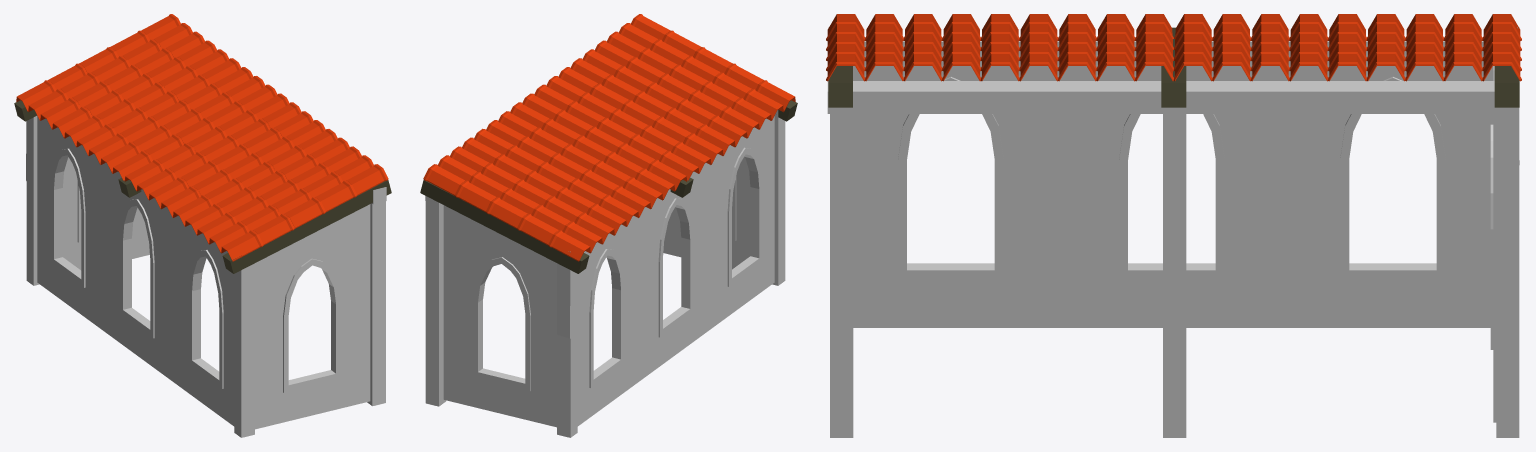
The model's file is Fancy Sidewall destruction.fbx.
The picture shows the model from 3 angles, left to right: view 1: azimuth 30°, elevation 25°; view 2: azimuth 150°, elevation 25°; view 3: azimuth 270°, elevation 25°; orthographic projection. The views are drawn at different scales.
Parts seen in each view (by area): view 1: Cube.1156, Cube.1159, Cube.1759, Cube.1164, Cube.1766, Cube.1764, Cube.1760, Cube.1157, Cube.1165, Cube.1158, Cube.1161, Cube.1163 (+134 smaller); view 2: Cube.1155, Cube.1133, Cube.990, Cube.1147, Cube.1763, Cube.1152, Cube.1154, Cube.1146, Cube.1134, Cube.1153, Cube.1145, Cube.988 (+134 smaller); view 3: Cube.989, Cube.1762, Cube.1761, Cube.1118, Cube.1142, Cube.1141, Cube.1124, Cube.1112, Cube.1129, Cube.1123, Cube.1139, Cube.1111 (+33 smaller).
Boxes of the visible parts, box(x1,y1,x2,y2) form: Cube.1156: box(312, 204, 370, 272); Cube.1159: box(255, 226, 327, 293); Cube.1759: box(234, 333, 254, 437); Cube.1164: box(284, 370, 340, 420); Cube.1766: box(367, 301, 385, 406); Cube.1764: box(370, 201, 385, 303); Cube.1760: box(234, 263, 254, 344); Cube.1157: box(331, 284, 370, 344); Cube.1165: box(331, 321, 370, 378); Cube.1158: box(331, 357, 370, 410); Cube.1161: box(255, 313, 288, 358); Cube.1163: box(255, 386, 291, 429); Cube.1155: box(443, 205, 501, 270); Cube.1133: box(557, 335, 577, 437); Cube.990: box(425, 301, 446, 406); Cube.1147: box(473, 368, 529, 418); Cube.1763: box(425, 201, 443, 304); Cube.1152: box(488, 228, 556, 290); Cube.1154: box(443, 282, 482, 343); Cube.1146: box(443, 319, 482, 376); Cube.1134: box(557, 251, 577, 339); Cube.1153: box(443, 356, 482, 409); Cube.1145: box(443, 264, 491, 302); Cube.988: box(499, 221, 589, 273); Cube.989: box(1283, 81, 1519, 113); Cube.1762: box(1046, 81, 1288, 113); Cube.1761: box(827, 81, 1058, 113); Cube.1118: box(1340, 263, 1445, 327); Cube.1142: box(898, 263, 1002, 327); Cube.1141: box(988, 257, 1061, 327); Cube.1124: box(1209, 257, 1282, 327); Cube.1112: box(1282, 256, 1355, 327); Cube.1129: box(1061, 256, 1134, 327); Cube.1123: box(1119, 263, 1224, 327); Cube.1139: box(994, 140, 1061, 226); Cube.1111: box(1282, 140, 1349, 226).
Size of the model in its own units: 3.6 by 4.97 by 8.39.
